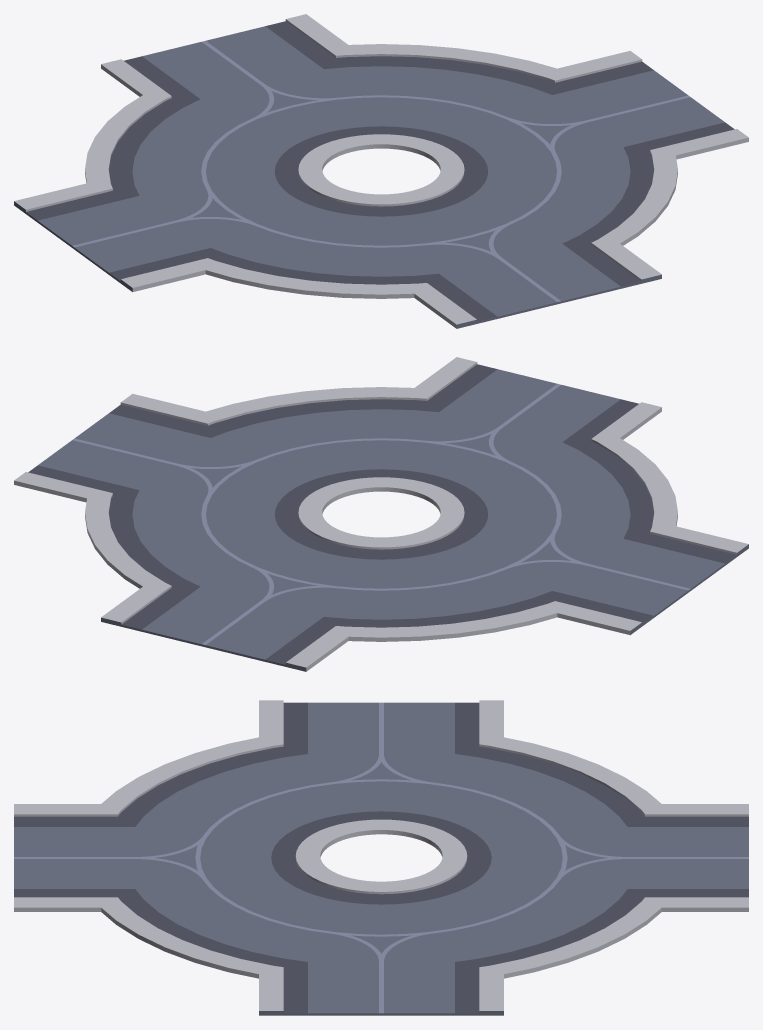
The model's file is Road Roundabout.glb.
3 renders of one model, top to bottom at view 1: azimuth 30°, elevation 25°; view 2: azimuth 150°, elevation 25°; view 3: azimuth 270°, elevation 25°, orthographic. The views are drawn at different scales.
Parts seen in each view (by area): view 1: road_roundabout; view 2: road_roundabout; view 3: road_roundabout.
Part boxes in pixels (left/top/right/bottom): road_roundabout: left=14, top=14, right=748, bottom=328; road_roundabout: left=14, top=357, right=748, bottom=671; road_roundabout: left=14, top=700, right=748, bottom=1015.
Size of the model in its own units: 3 by 0.02 by 3.
